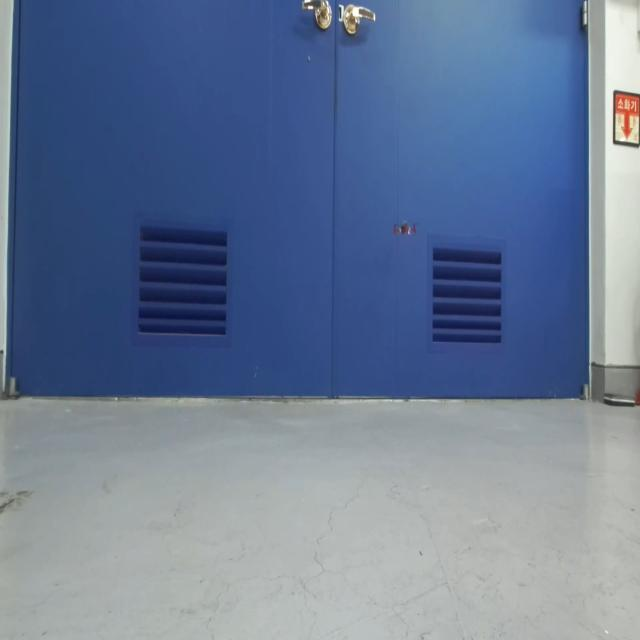crazyflie: (389, 216, 421, 242)
